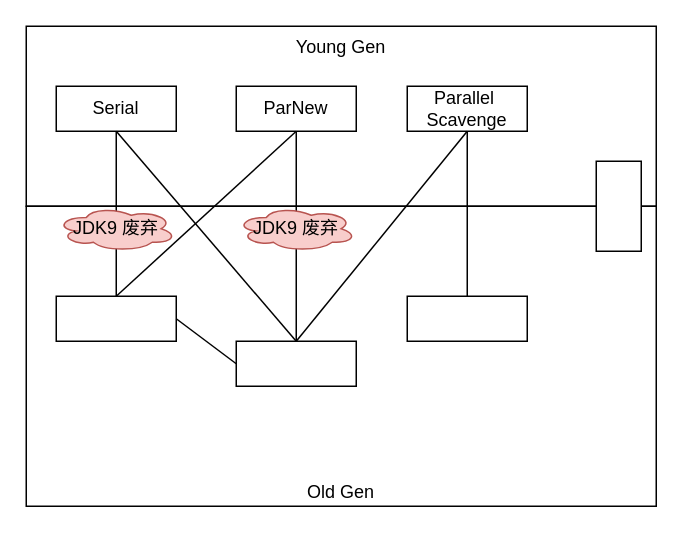
The diagram is 683 pixels wide and 533 high, and some of its shapes have lost their labels. Each missing label, with the centre of its shape:
CMS: (x=115, y=318)
G1: (x=618, y=205)
Parallel Old: (x=466, y=318)
Serial Od (MSC): (x=295, y=363)
